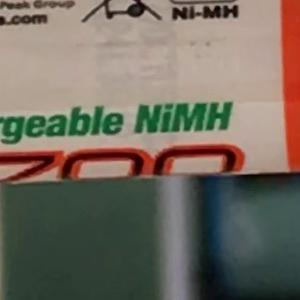NIMH: (124, 92, 242, 143)
